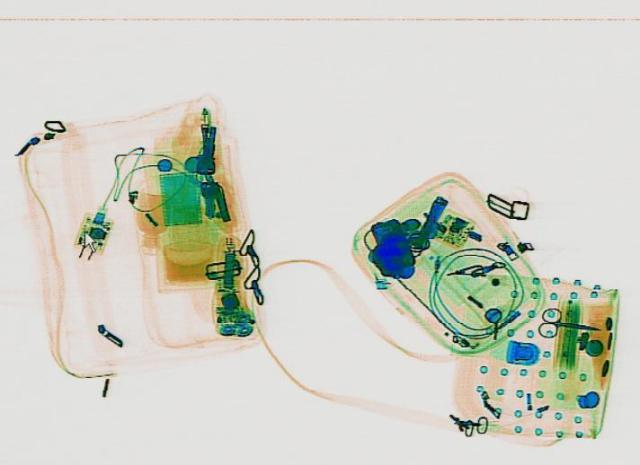Scissors: (534, 305, 606, 341)
